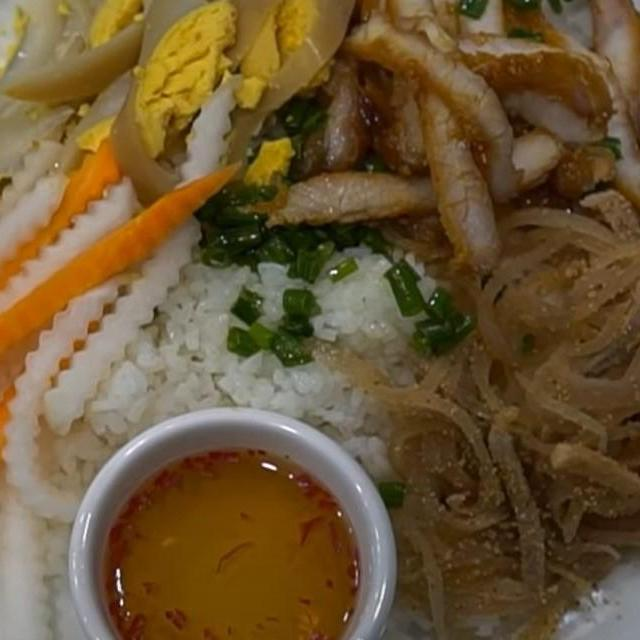bi: (376, 186, 640, 640)
com: (68, 226, 448, 499)
com suon bi trung: (0, 0, 640, 640)
dua chua: (34, 70, 256, 441), (0, 116, 149, 603), (0, 415, 69, 640)
suon: (249, 0, 640, 271)
trung: (0, 0, 362, 214)
